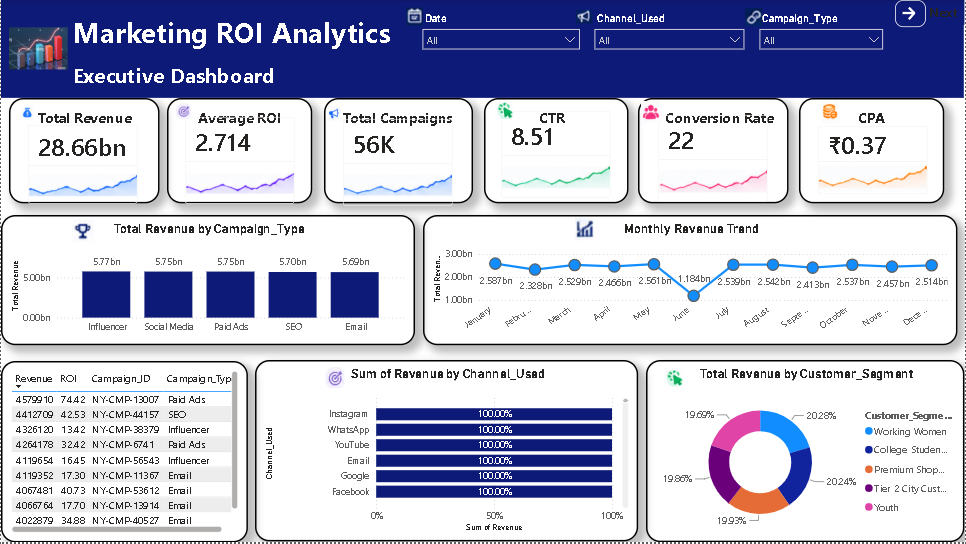

The dashboard page shown, as its layout file describes it:
{"tool":"powerbi","page":{"name":"Executive Overview","canvas":[1280,720],"ordinal":0},"visuals":[{"type":"textbox","box":[0,118.1,216,141.1],"z":0},{"type":"textbox","box":[0,0,1278.7,118.1],"z":1000},{"type":"cardVisual","fields":{"Data":["marketing_campaign_cleaned.Total Revenue"]},"box":[17.3,122.4,180,139],"z":2000},{"type":"textbox","box":[216,118.1,213.1,141.1],"z":3000},{"type":"textbox","box":[429.1,118.1,210.2,141.1],"z":4000},{"type":"textbox","box":[848.2,118.1,211.7,141.1],"z":5000},{"type":"textbox","box":[1071.4,118.1,207.4,141.1],"z":6000},{"type":"textbox","box":[639.4,118.1,204.5,141.1],"z":7000},{"type":"cardVisual","fields":{"Data":["marketing_campaign_cleaned.Average ROI"]},"box":[231.8,125.3,180,139.7],"z":8000},{"type":"cardVisual","fields":{"Data":["marketing_campaign_cleaned.Total Campaigns"]},"box":[443.5,131,180,128.2],"z":9000},{"type":"cardVisual","fields":{"Data":["marketing_campaign_cleaned.CTR"]},"box":[650.9,125.3,180,133.9],"z":10000},{"type":"cardVisual","fields":{"Data":["marketing_campaign_cleaned.Conversion Rate"]},"box":[871.2,125.3,180,133.9],"z":11000},{"type":"cardVisual","fields":{"Data":["marketing_campaign_cleaned.CPA"]},"box":[1087.2,125.3,174.2,133.9],"z":12000},{"type":"lineChart","title":"Monthly Revenue Trend","fields":{"Category":["marketing_campaign_cleaned.Date.Variation.Date Hierarchy.Month"],"Y":["marketing_campaign_cleaned.Total Revenue"]},"box":[560.2,259.2,720,198.7],"z":13000},{"type":"clusteredColumnChart","title":"Total Revenue by Campaign_Type","fields":{"Category":["marketing_campaign_cleaned.Campaign_Type"],"Y":["marketing_campaign_cleaned.Total Revenue"]},"box":[0,259.2,560.2,198.7],"z":14000},{"type":"clusteredBarChart","fields":{"Category":["marketing_campaign_cleaned.Channel_Used"],"Y":["Sum(marketing_campaign_cleaned.Revenue)"]},"box":[380.2,457.9,479.5,262.1],"z":15000},{"type":"donutChart","fields":{"Category":["marketing_campaign_cleaned.Customer_Segment"],"Y":["marketing_campaign_cleaned.Total Revenue"]},"box":[858.2,457.9,423.4,262.1],"z":16000},{"type":"tableEx","fields":{"Values":["marketing_campaign_cleaned.Revenue","marketing_campaign_cleaned.ROI","marketing_campaign_cleaned.Campaign_ID","marketing_campaign_cleaned.Campaign_Type"]},"box":[0,457.9,332.6,262.1],"z":17000},{"type":"slicer","fields":{"Values":["marketing_campaign_cleaned.Date"]},"box":[570.2,10.1,201.6,93.6],"z":18000},{"type":"slicer","fields":{"Values":["marketing_campaign_cleaned.Channel_Used"]},"box":[771.8,10.1,197.3,93.6],"z":19000},{"type":"slicer","fields":{"Values":["marketing_campaign_cleaned.Campaign_Type"]},"box":[969.1,10.1,204.5,93.6],"z":20000},{"type":"actionButton","box":[1228.3,0,40.7,35.7],"z":21000},{"type":"image","box":[10.3,21.7,78.3,86.7],"z":23000},{"type":"textbox","box":[1183.7,1.4,44.6,30.2],"z":33001}]}

Visuals, with their boxes in screenshot pixels (x1, y1, x2, y2), scaled from the page's 1280x720 canvas onto the 966x544 screenshot:
textbox: [x1=0, y1=89, x2=163, y2=196]
textbox: [x1=0, y1=0, x2=965, y2=89]
cardVisual - marketing_campaign_cleaned.Total Revenue: [x1=13, y1=92, x2=149, y2=198]
textbox: [x1=163, y1=89, x2=324, y2=196]
textbox: [x1=324, y1=89, x2=482, y2=196]
textbox: [x1=640, y1=89, x2=800, y2=196]
textbox: [x1=809, y1=89, x2=965, y2=196]
textbox: [x1=483, y1=89, x2=637, y2=196]
cardVisual - marketing_campaign_cleaned.Average ROI: [x1=175, y1=95, x2=311, y2=200]
cardVisual - marketing_campaign_cleaned.Total Campaigns: [x1=335, y1=99, x2=471, y2=196]
cardVisual - marketing_campaign_cleaned.CTR: [x1=491, y1=95, x2=627, y2=196]
cardVisual - marketing_campaign_cleaned.Conversion Rate: [x1=657, y1=95, x2=793, y2=196]
cardVisual - marketing_campaign_cleaned.CPA: [x1=820, y1=95, x2=952, y2=196]
"Monthly Revenue Trend" lineChart: [x1=423, y1=196, x2=965, y2=346]
"Total Revenue by Campaign_Type" clusteredColumnChart: [x1=0, y1=196, x2=423, y2=346]
clusteredBarChart - marketing_campaign_cleaned.Channel_Used x Sum(marketing_campaign_cleaned.Revenue): [x1=287, y1=346, x2=649, y2=543]
donutChart - marketing_campaign_cleaned.Customer_Segment x marketing_campaign_cleaned.Total Revenue: [x1=648, y1=346, x2=965, y2=543]
tableEx - marketing_campaign_cleaned.Revenue x marketing_campaign_cleaned.ROI: [x1=0, y1=346, x2=251, y2=543]
slicer - marketing_campaign_cleaned.Date: [x1=430, y1=8, x2=582, y2=78]
slicer - marketing_campaign_cleaned.Channel_Used: [x1=582, y1=8, x2=731, y2=78]
slicer - marketing_campaign_cleaned.Campaign_Type: [x1=731, y1=8, x2=886, y2=78]
actionButton: [x1=927, y1=0, x2=958, y2=27]
image: [x1=8, y1=16, x2=67, y2=82]
textbox: [x1=893, y1=1, x2=927, y2=24]
